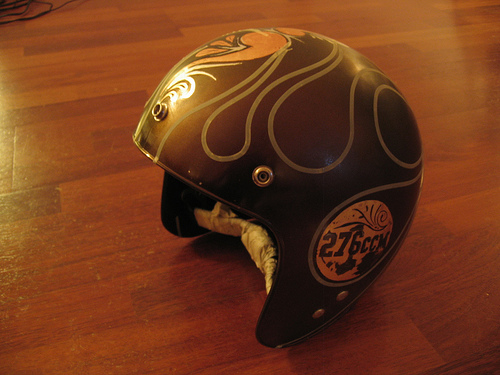helmet: (141, 30, 423, 324)
